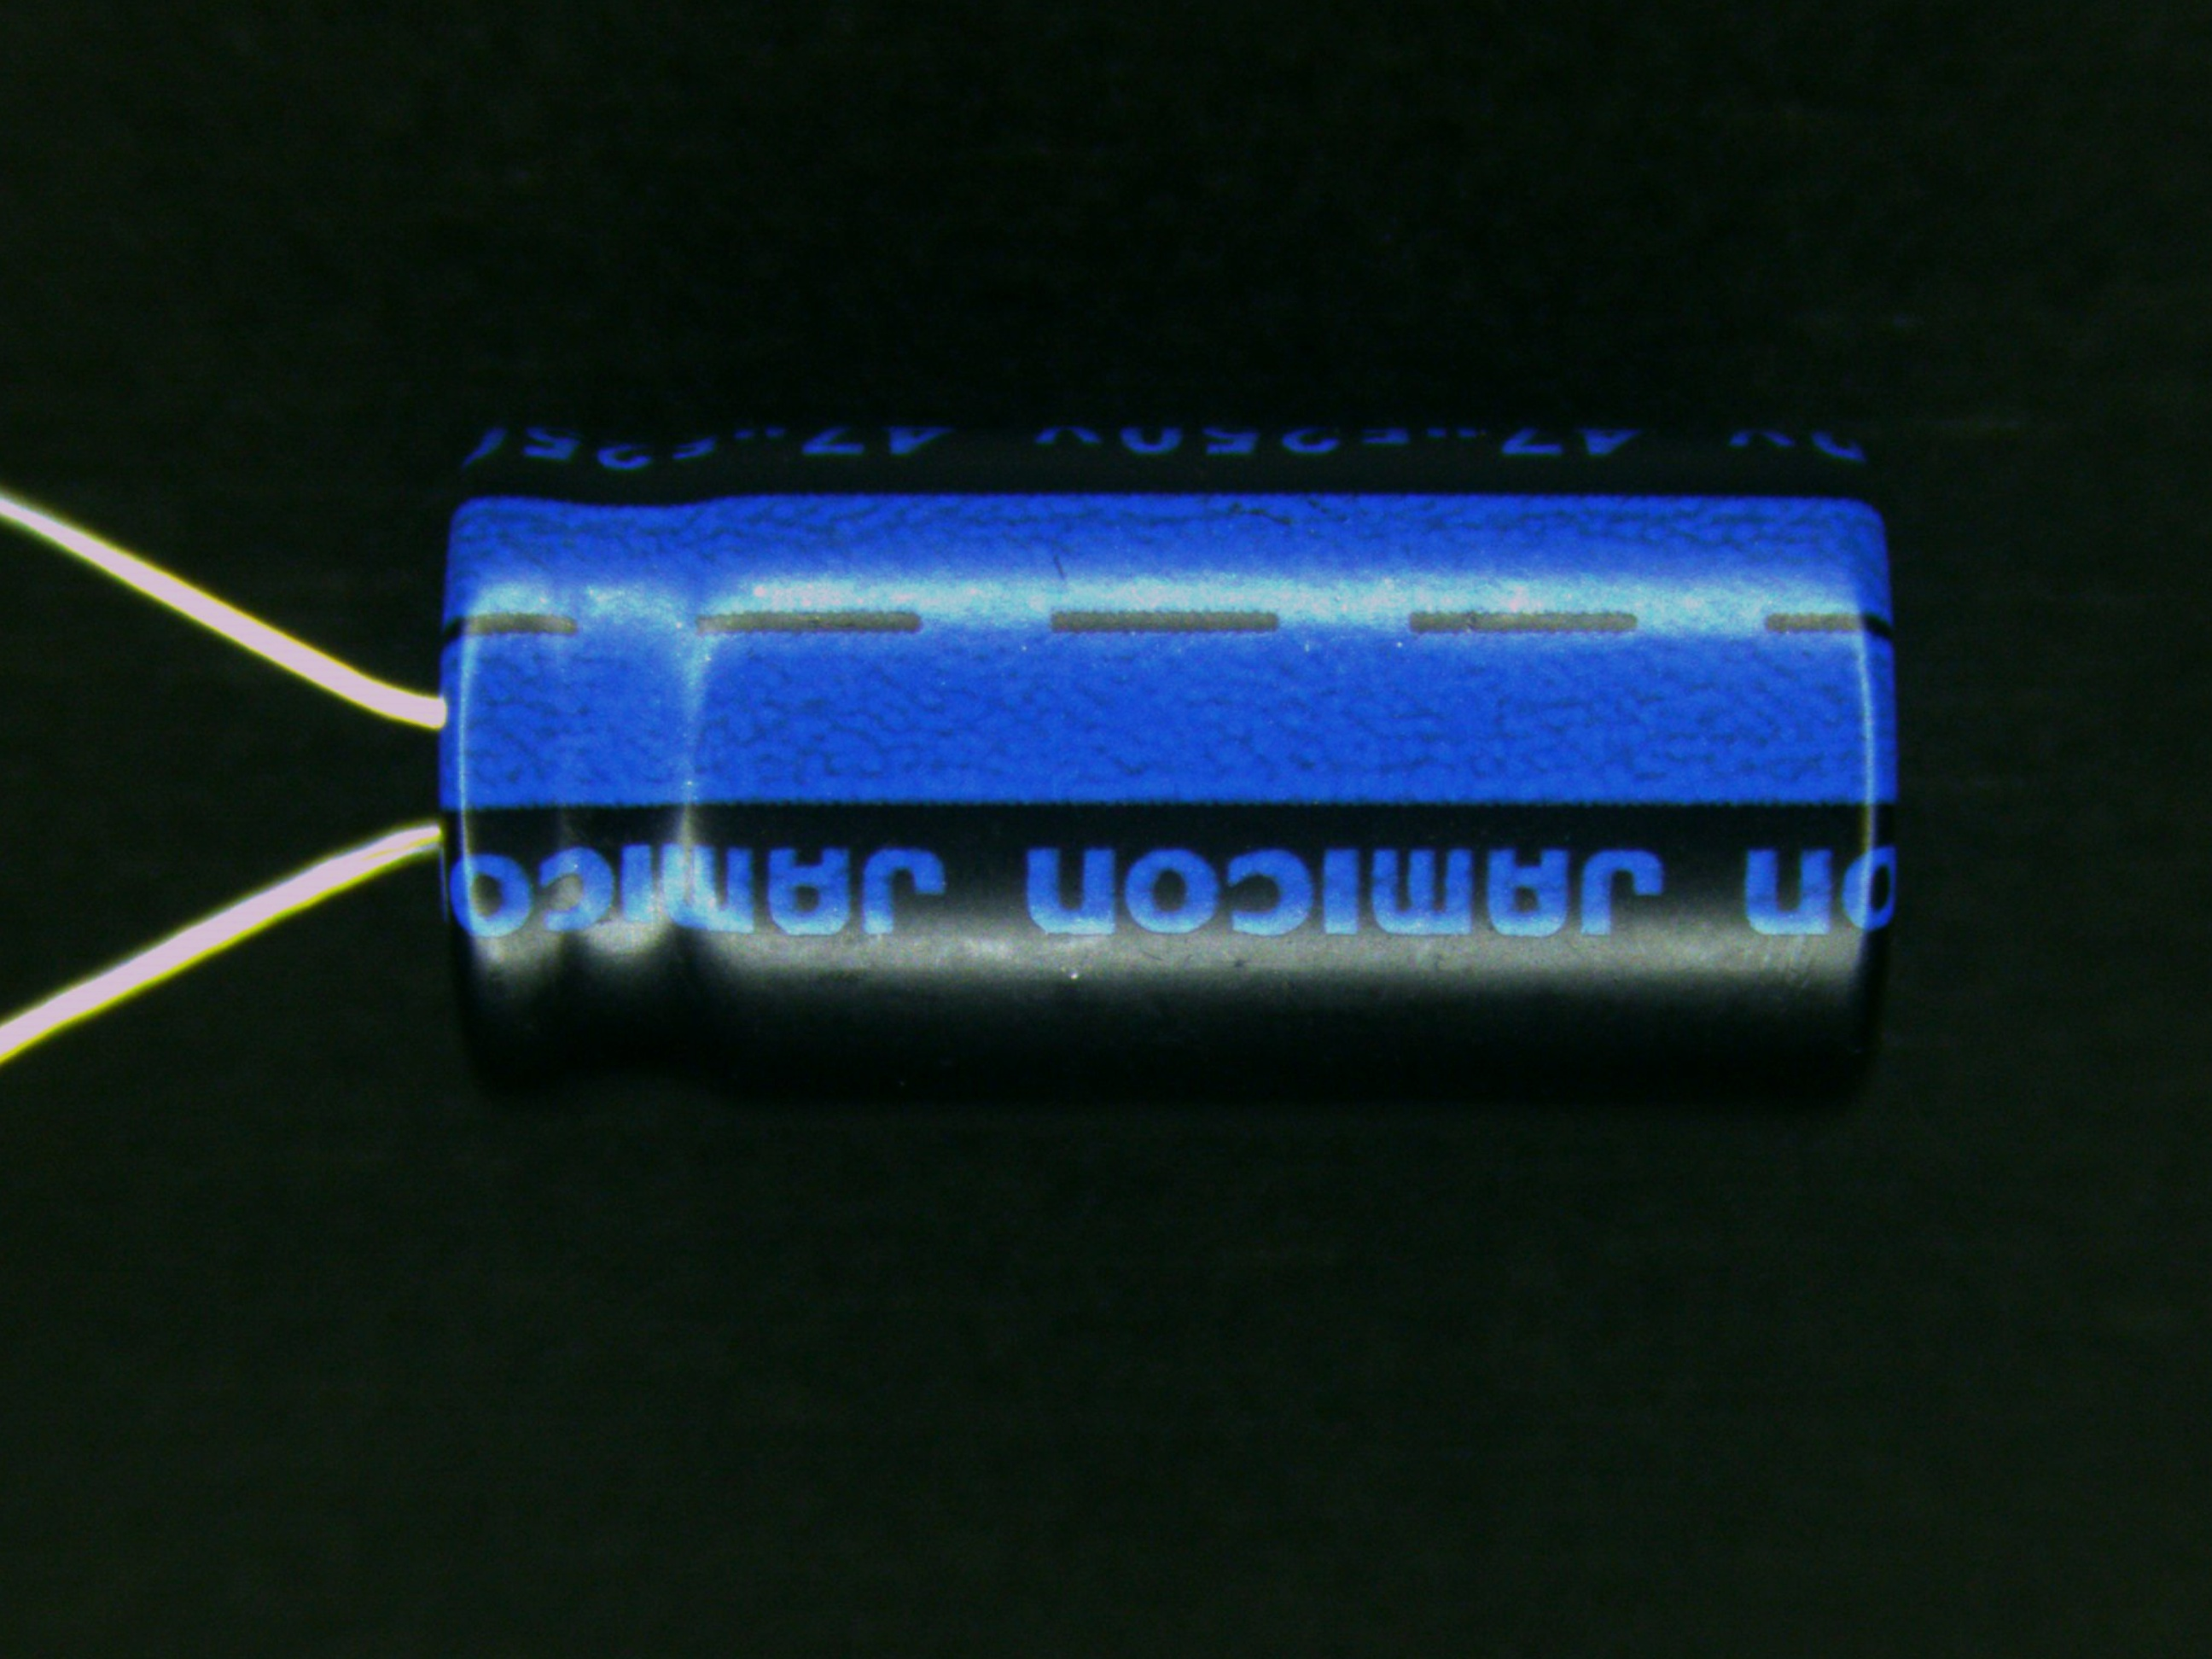c2: (169, 404, 1907, 1103)
